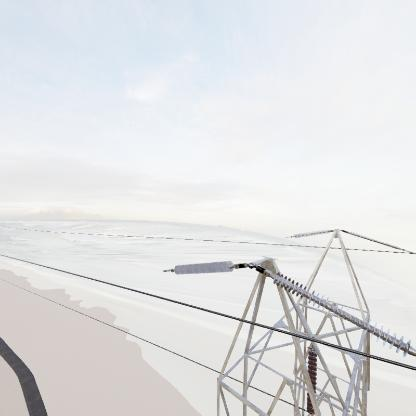insulator: (262, 263, 416, 360), (342, 229, 405, 253), (164, 259, 238, 278), (289, 228, 336, 240)
